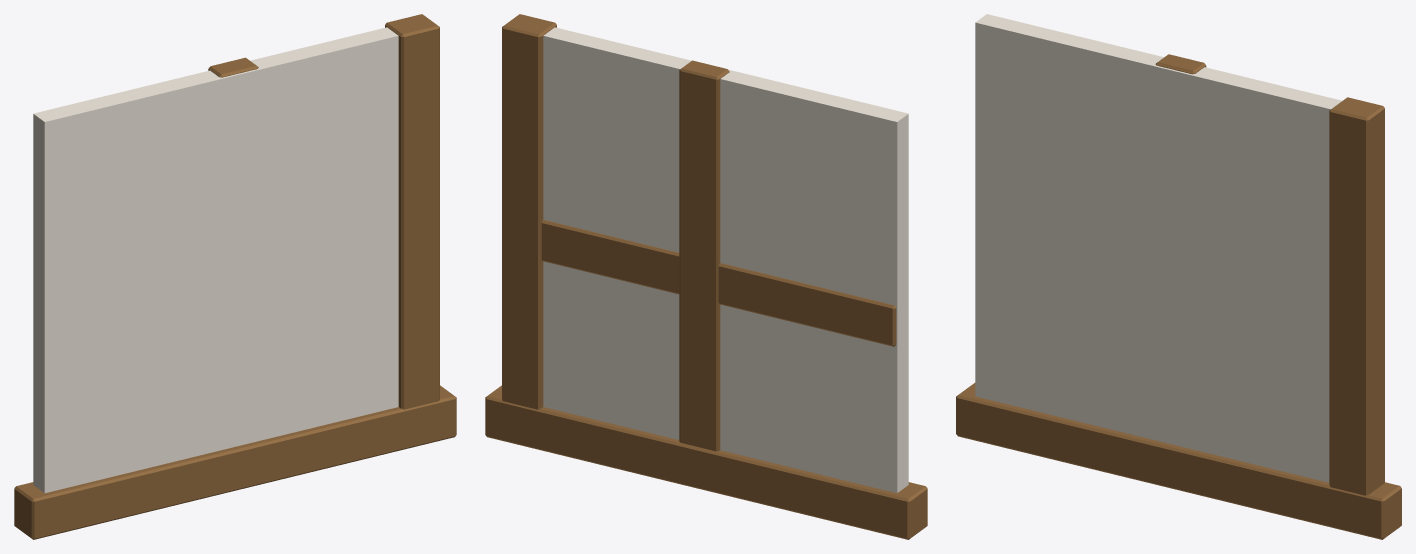
Rendered from WallCross.fbx.
3 renders of one model, left to right at view 1: azimuth 30°, elevation 25°; view 2: azimuth 150°, elevation 25°; view 3: azimuth 330°, elevation 25°, orthographic.
Parts seen in each view (by area): view 1: Cube.001, Cube.077, Cube.073; view 2: Cube.001, Cube.077, Cube.073, Cube.074, Cube.075; view 3: Cube.001, Cube.073, Cube.077.
Boxes of the visible parts, <box> form: Cube.001: <box>33,27,398,493</box>; Cube.077: <box>14,385,456,539</box>; Cube.073: <box>385,14,439,409</box>; Cube.001: <box>543,27,908,493</box>; Cube.077: <box>485,385,927,539</box>; Cube.073: <box>502,14,556,409</box>; Cube.074: <box>679,60,729,451</box>; Cube.075: <box>541,219,896,346</box>; Cube.001: <box>975,14,1342,482</box>; Cube.073: <box>1329,97,1384,495</box>; Cube.077: <box>956,383,1401,539</box>.
Bounding box in the file's own units: 216 × 202 × 17.27.
